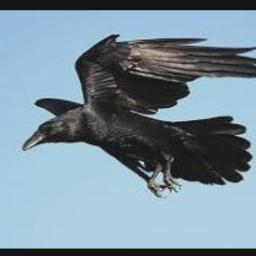Crow: (25, 33, 256, 198)
